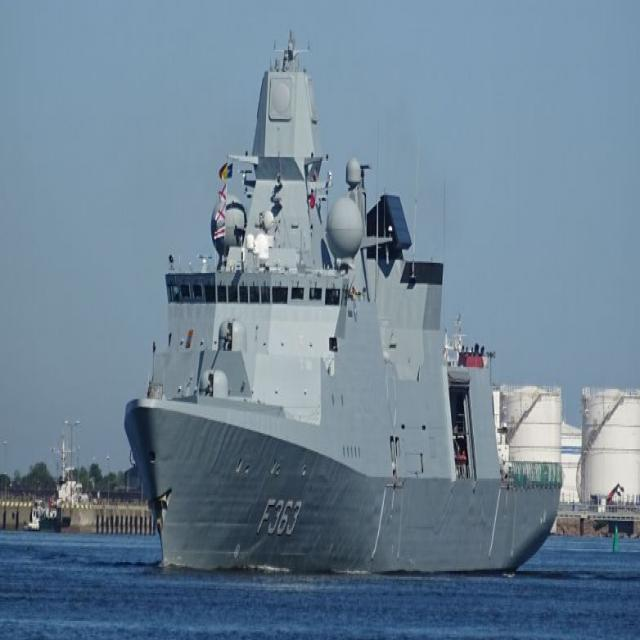Fragata: (122, 21, 566, 581)
